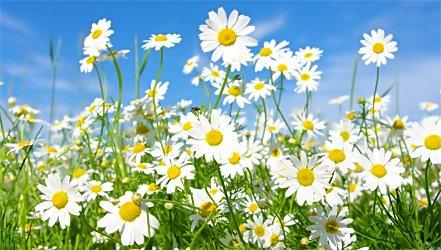chamomile: (98, 197, 163, 244), (205, 13, 254, 62), (282, 158, 328, 210), (36, 181, 80, 221), (357, 32, 399, 69), (358, 152, 396, 191), (153, 159, 194, 195), (315, 218, 359, 250), (190, 122, 233, 153), (413, 123, 441, 165), (154, 157, 193, 187), (82, 19, 114, 55), (221, 142, 252, 176), (143, 33, 186, 53), (326, 143, 353, 173), (271, 54, 302, 79), (248, 43, 287, 62), (293, 69, 322, 92), (124, 137, 150, 162), (247, 223, 275, 245), (242, 78, 272, 98), (198, 66, 223, 87), (299, 116, 325, 135), (220, 88, 247, 106), (80, 53, 103, 73), (296, 47, 323, 64), (333, 121, 354, 142)
